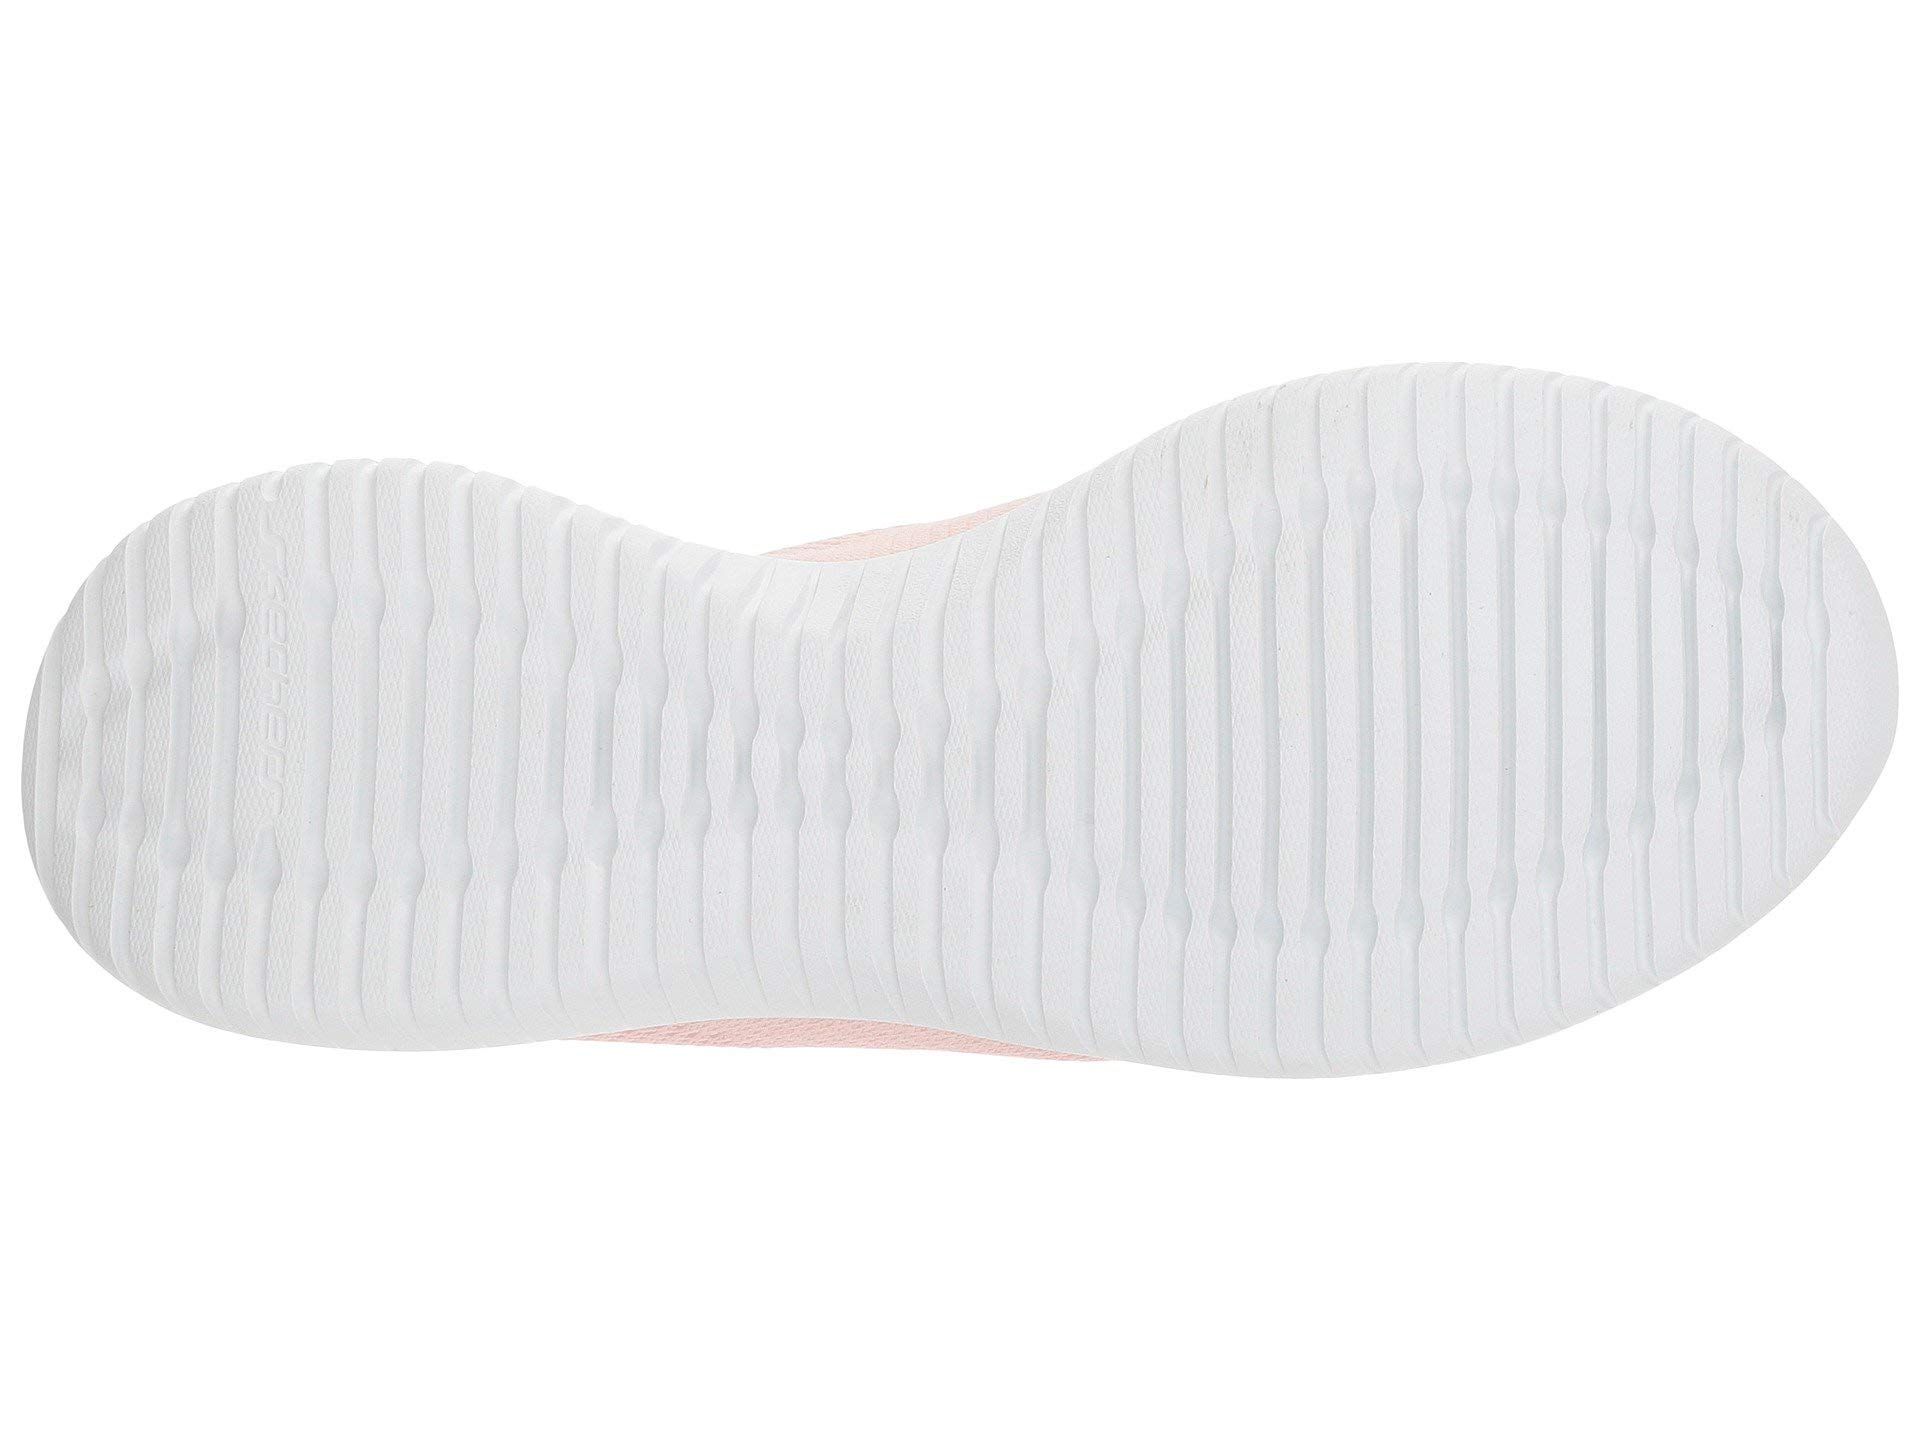line: (1194, 628, 1473, 874), (1507, 566, 1689, 749), (225, 663, 395, 818), (656, 858, 794, 998)
text: (225, 663, 395, 818)
